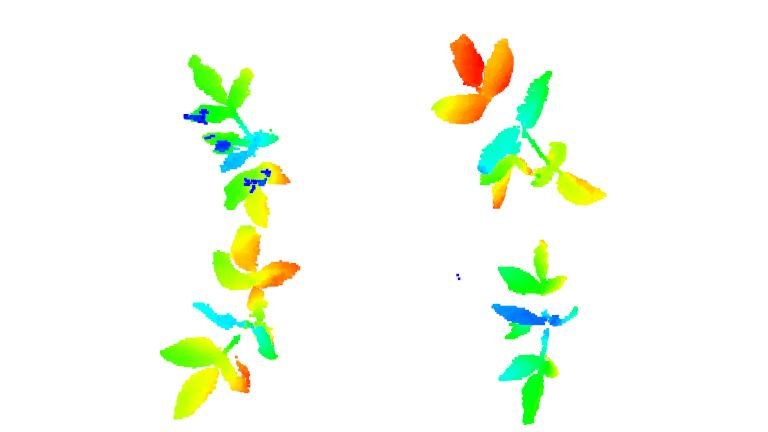mungbean: (439, 29, 613, 208), (161, 227, 299, 423), (180, 51, 292, 230), (487, 234, 582, 425)
